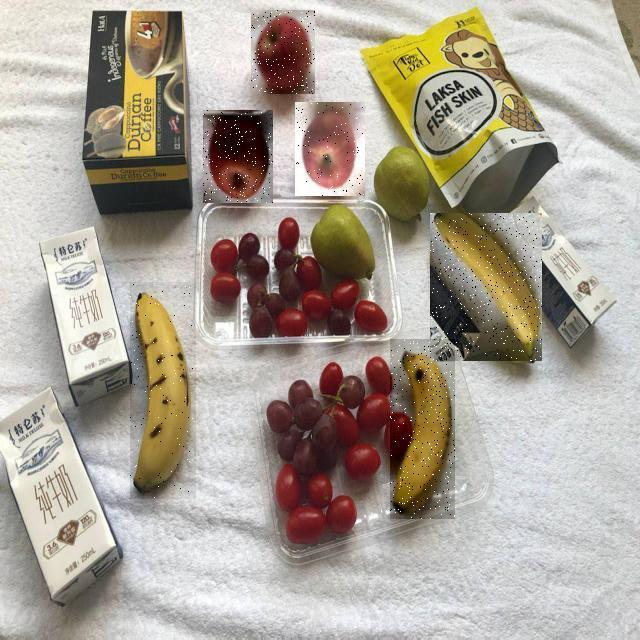apple: (112, 98, 478, 294), (66, 102, 340, 304), (94, 47, 408, 141)
banana: (160, 180, 640, 542), (162, 260, 618, 640), (32, 250, 228, 640)
